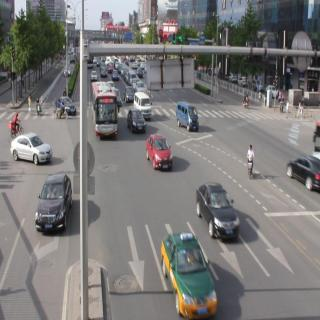BigCar: (90, 80, 118, 144)
Car: (160, 235, 221, 318), (192, 176, 242, 238), (41, 164, 78, 239), (7, 124, 53, 160), (297, 144, 320, 196), (174, 103, 204, 135), (150, 133, 170, 175), (135, 89, 154, 117), (56, 90, 72, 120), (128, 108, 145, 130), (124, 82, 136, 105), (100, 60, 109, 80)
